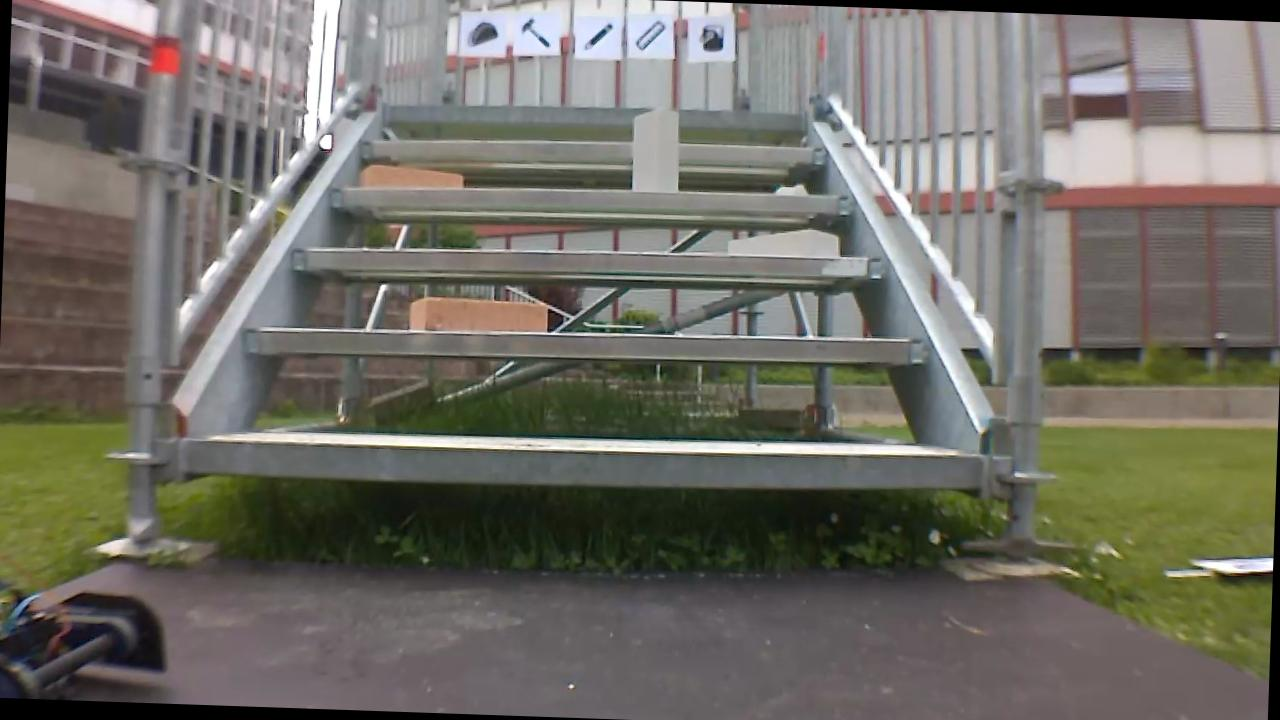brick: (409, 295, 546, 333), (630, 107, 678, 190), (726, 225, 839, 257), (357, 165, 463, 188)
bucket: (693, 18, 727, 54)
edge: (184, 426, 982, 496), (244, 317, 924, 368), (291, 235, 886, 283), (331, 178, 858, 222), (357, 132, 831, 169), (383, 97, 811, 132)
hammer: (517, 13, 557, 52)
pencil: (576, 18, 614, 54)
ruler: (629, 17, 669, 52)
steps: (172, 85, 1000, 509)
taco: (463, 15, 499, 51)
